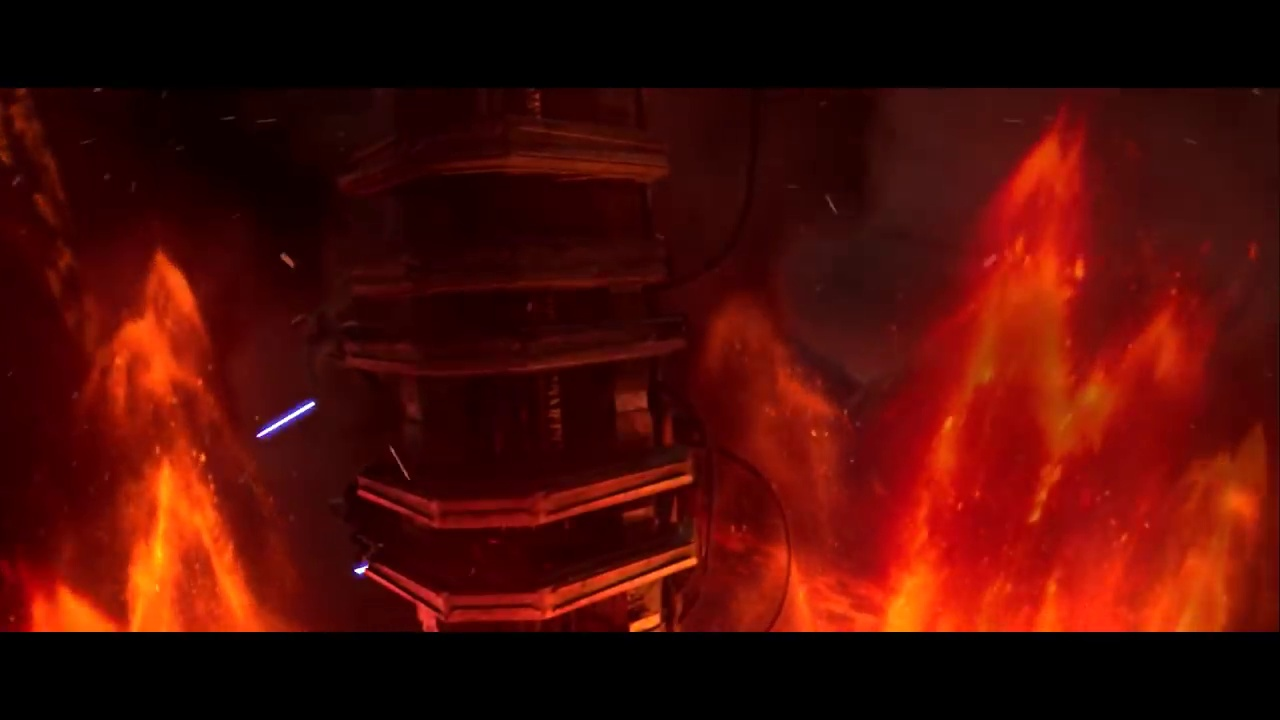lightsaber: (238, 390, 320, 448)
